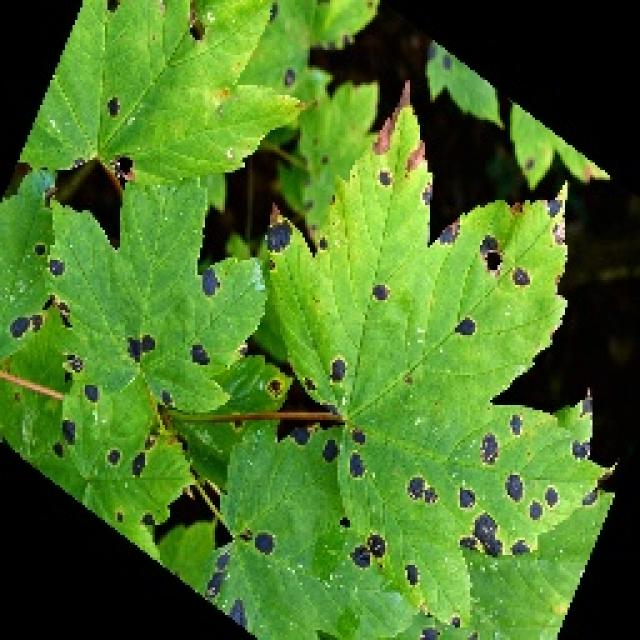Tar_Spot: (11, 7, 604, 627)
